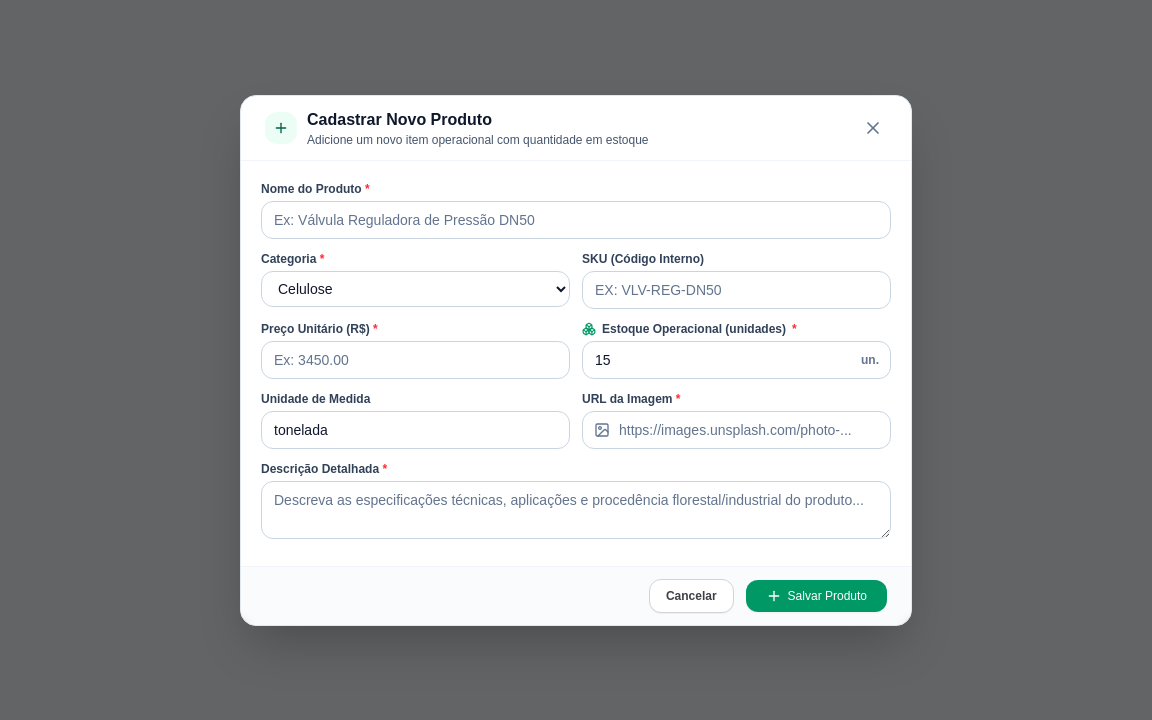
it: ProductFormModal Component › deve submeter com sucesso quando todos os campos obrigatórios forem preenchidos
This screenshot has width=1152, height=720.
Preenche o campo Nome
Type "Papel Tissue Premium Ecofibra" into the field labelled "Nome do Produto *". click: (576, 220)
box: [261,200,891,238]
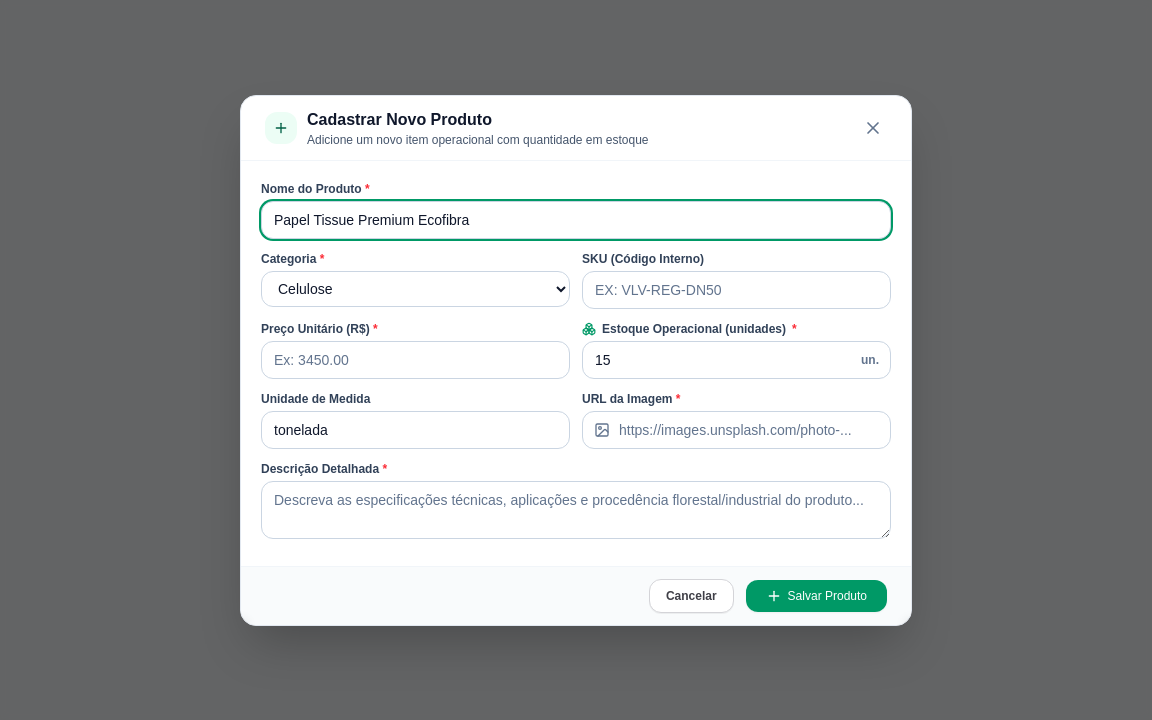
Preenche o campo Preço
Type "1250" into the number field labelled "Preço Unitário (R$) *". click: (416, 360)
box: [261,340,570,378]
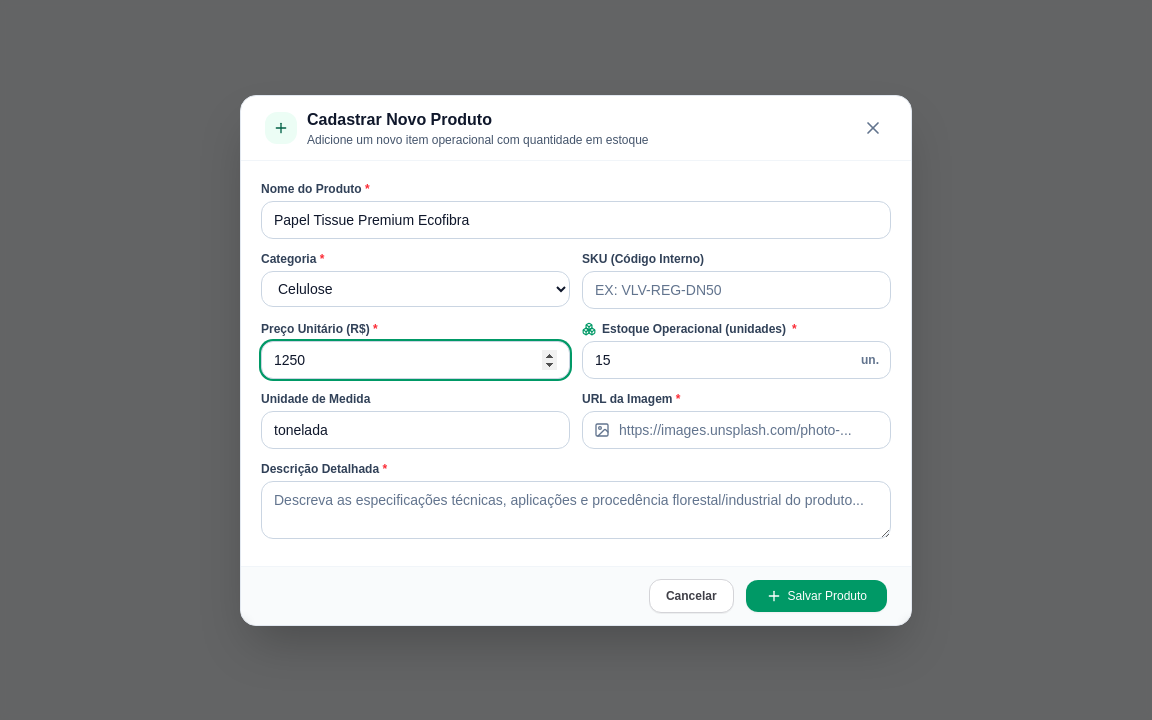
Preenche a URL da Imagem
Type "https://images.unsplash.com/photo-1586528116311-ad8dd3c8310d" into the field labelled "URL da Imagem *". click: (736, 430)
box: [582,410,891,448]
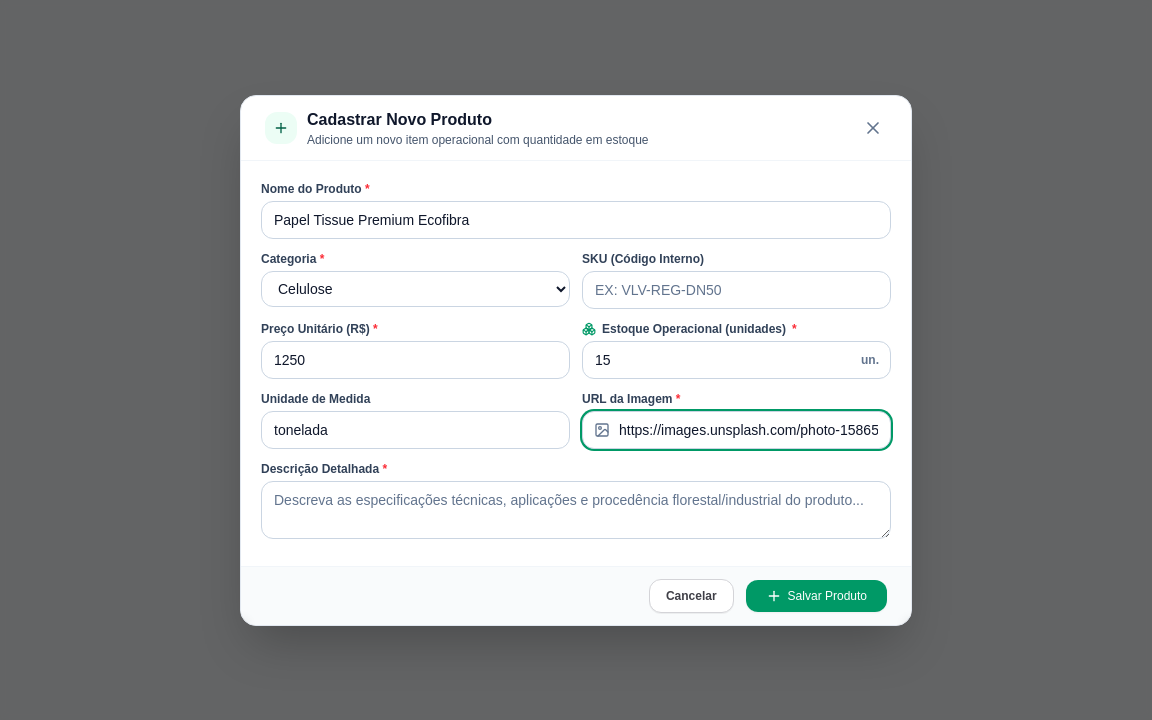
Preenche a Descrição
Type "Produto fabricado com celulose 100% renovável e alta maciez." into the text box labelled "Descrição Detalhada *". click: (576, 510)
box: [261,480,891,538]
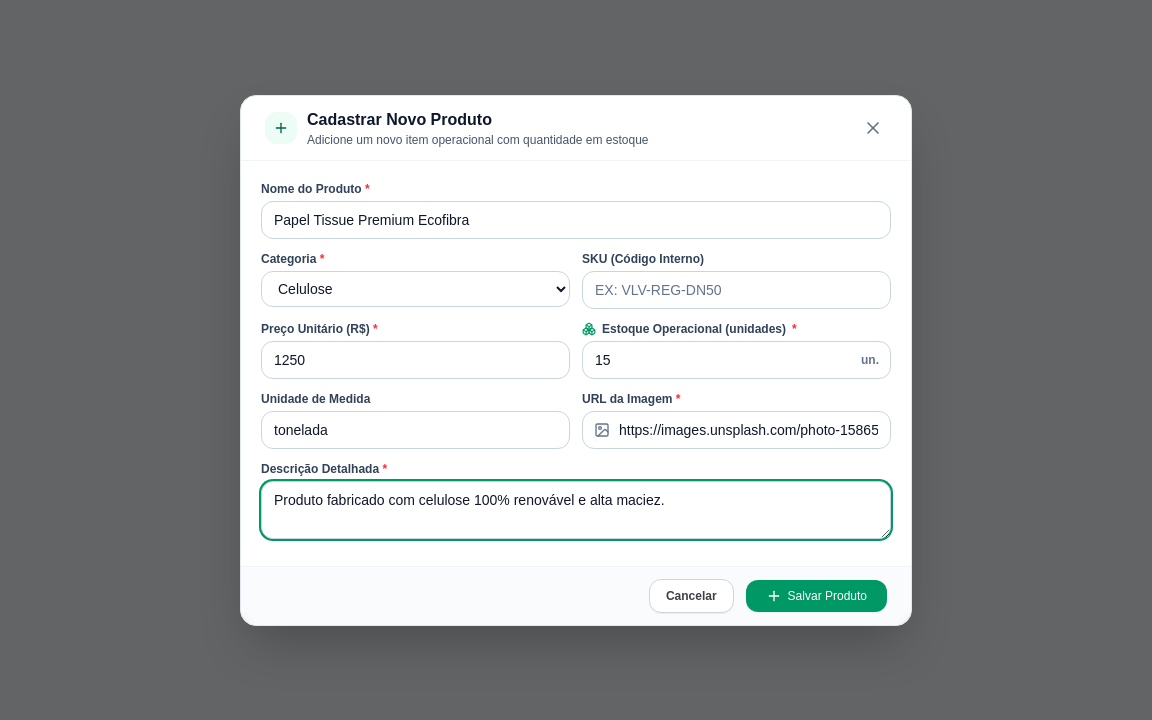
Click the button "Salvar Produto". click: (816, 596)
box: [746,580,887,612]
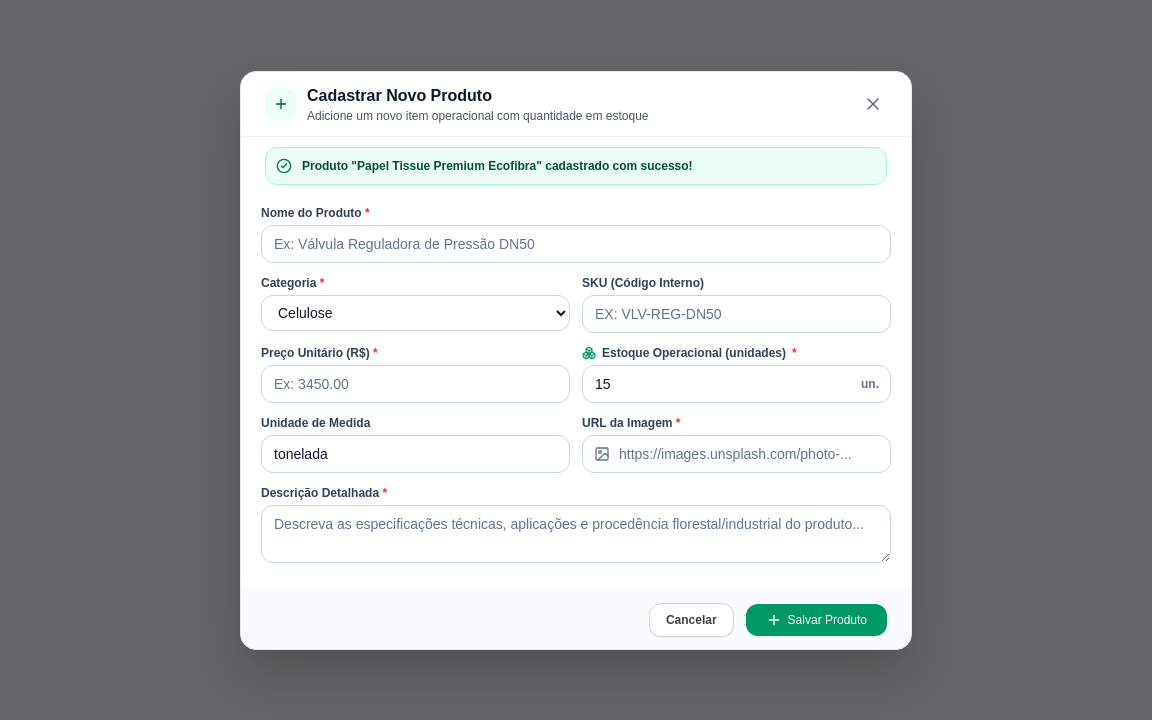
Check: the text "cadastrado com sucesso!" is shown, box [302,158,693,172]
